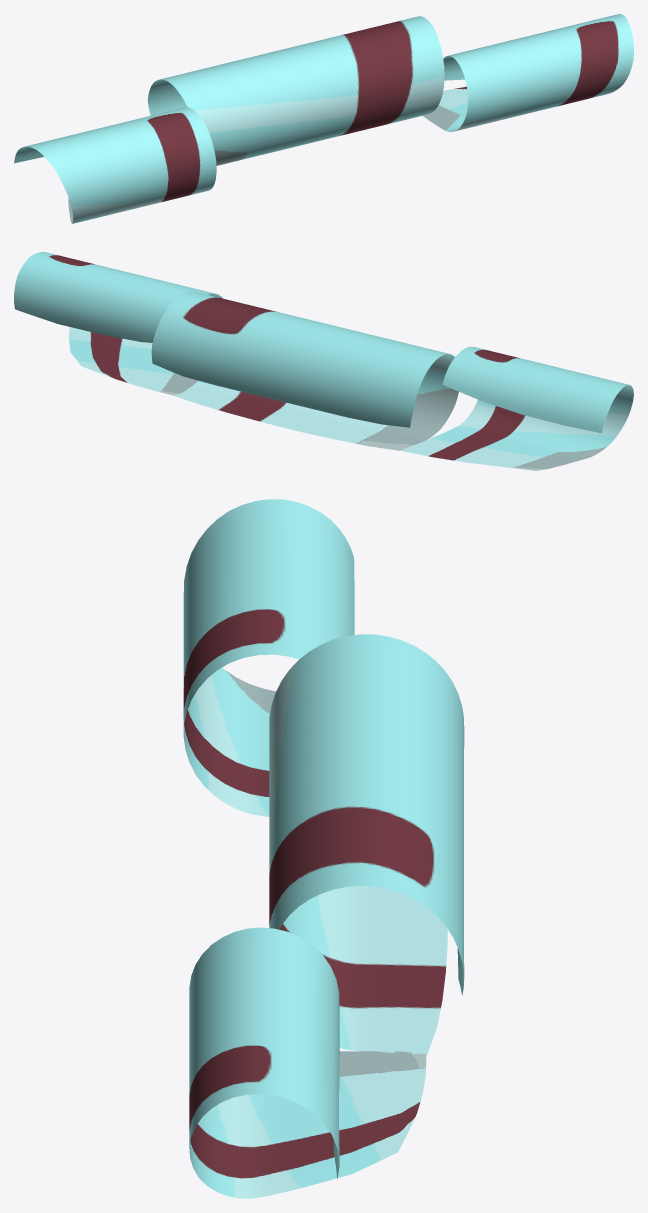
Rendered from Level 99 hair curlers.fbx.
3 views of the same model, one above another, from view 1: azimuth 30°, elevation 25°; view 2: azimuth 150°, elevation 25°; view 3: azimuth 270°, elevation 25° (orthographic). The views are drawn at different scales.
Parts seen in each view (by area): view 1: middle_hair, right_hair, left_hair; view 2: middle_hair, left_hair, right_hair; view 3: middle_hair, right_hair, left_hair.
Boxes of the visible parts, x1,y1,x2,y2 form: middle_hair: (147, 16, 444, 165); right_hair: (422, 14, 633, 131); left_hair: (14, 107, 216, 223); middle_hair: (151, 291, 458, 450); left_hair: (400, 346, 633, 470); right_hair: (14, 252, 222, 395); middle_hair: (269, 634, 464, 1055); right_hair: (189, 927, 426, 1198); left_hair: (183, 499, 354, 816).
Size of what is drawn, in the model's own units: 1082 by 154 by 222.
